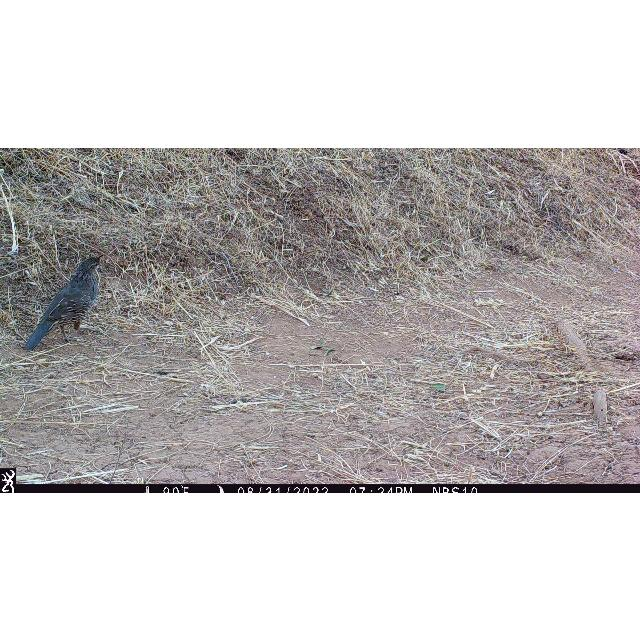animals: (22, 252, 106, 352)
